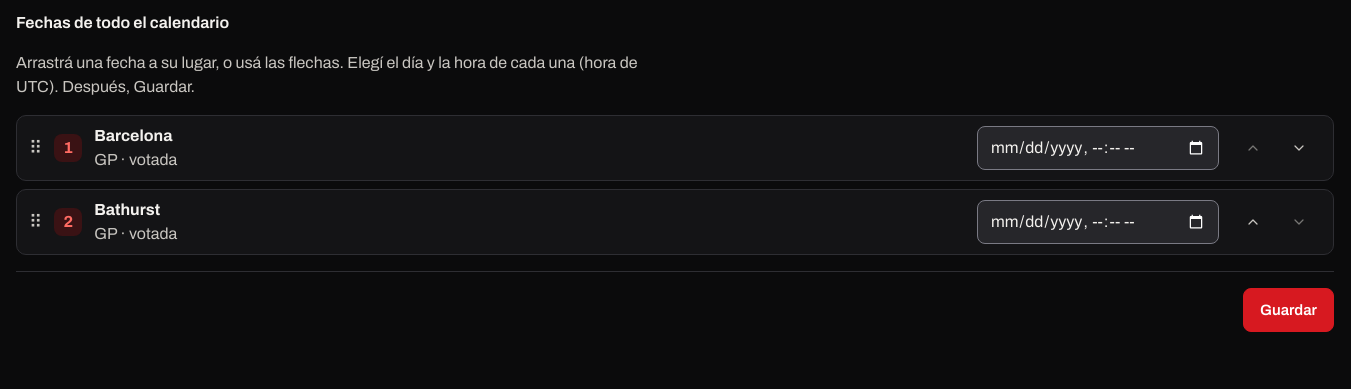
Test case: CalendarOrder › moves a round and saves the order and a new date
The width and height of the screenshot is (1351, 389).
Click the button named "Subir Bathurst": (1253, 222) left=1231, top=200, right=1275, bottom=244
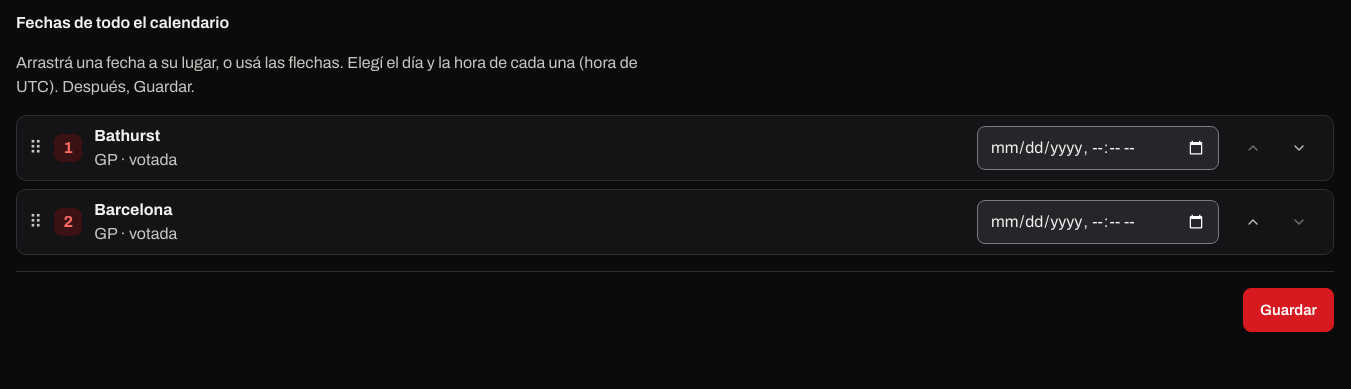
In the field named "Día y hora de Bathurst": (1098, 148) left=977, top=126, right=1219, bottom=170, type "2026-11-01T21:30"
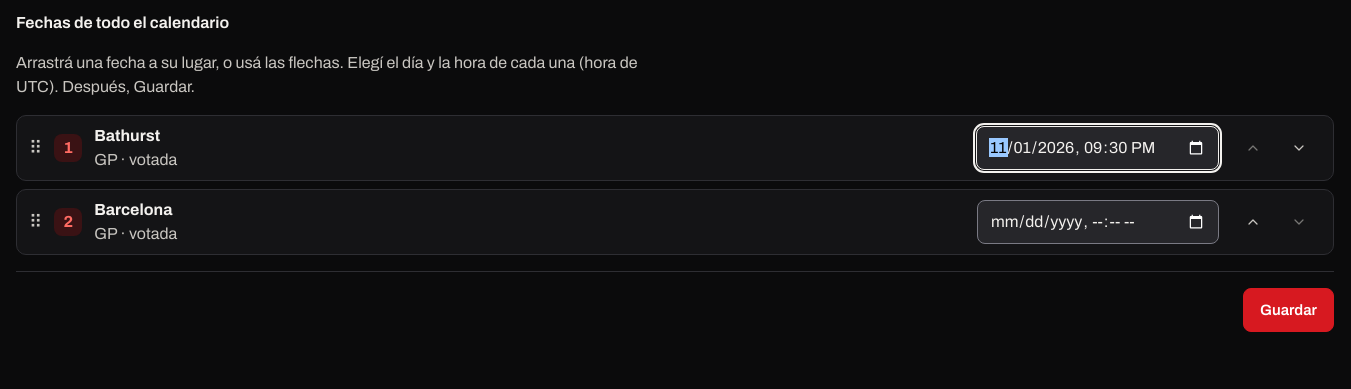
Click the button "Guardar": (1289, 310) left=1243, top=288, right=1334, bottom=332
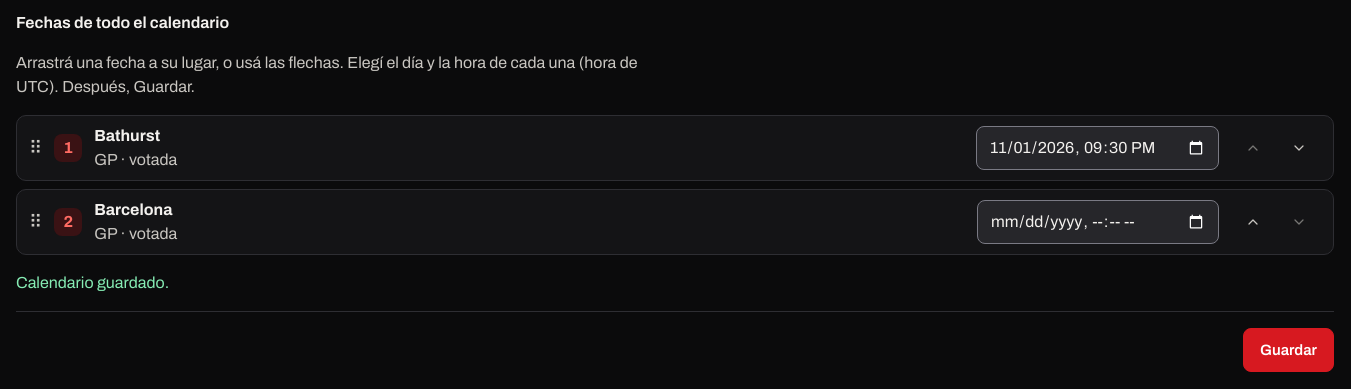
Check: the text "Calendario guardado." is shown, box left=16, top=274, right=169, bottom=291
